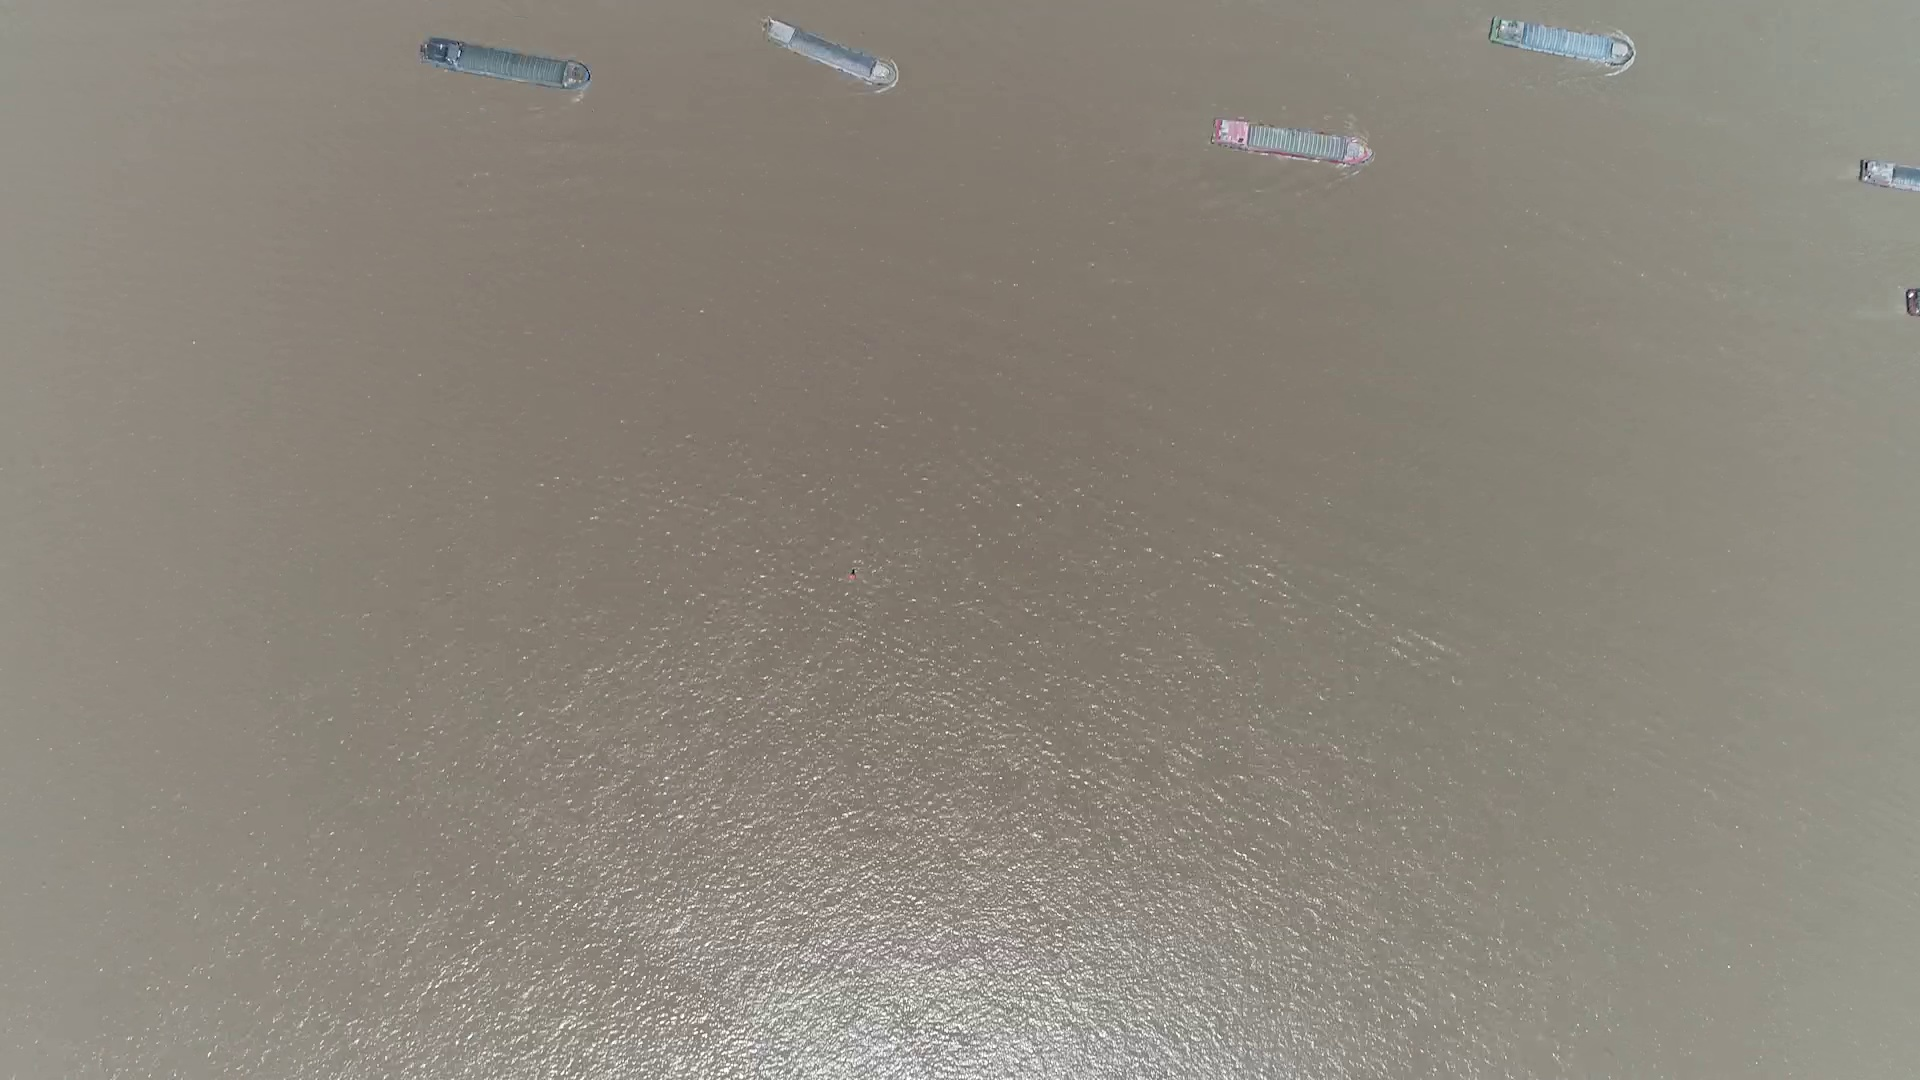ship: (415, 36, 592, 94), (1487, 17, 1633, 65), (1213, 125, 1369, 164)
